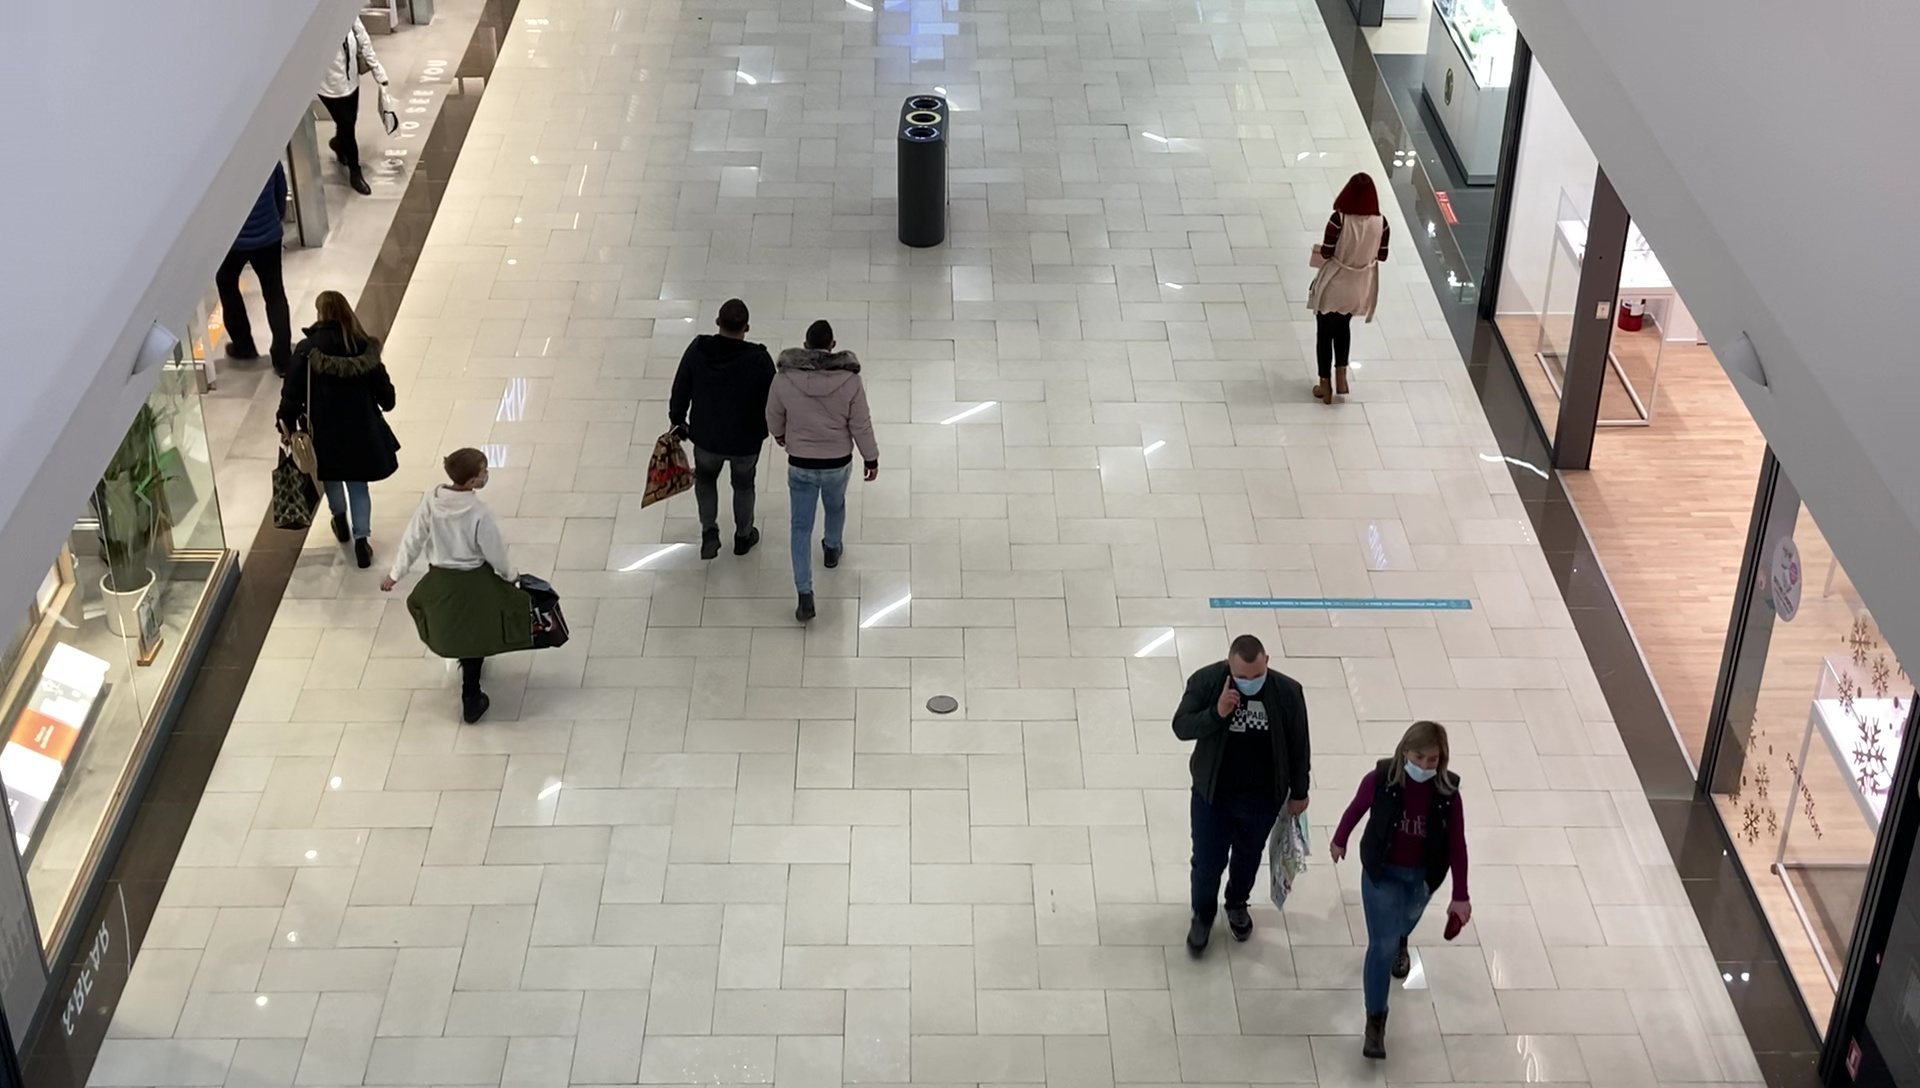person: (1327, 722, 1473, 1062), (1171, 634, 1311, 950), (384, 451, 521, 724), (765, 315, 882, 625), (275, 290, 396, 569), (670, 299, 781, 561), (1308, 172, 1391, 403)
